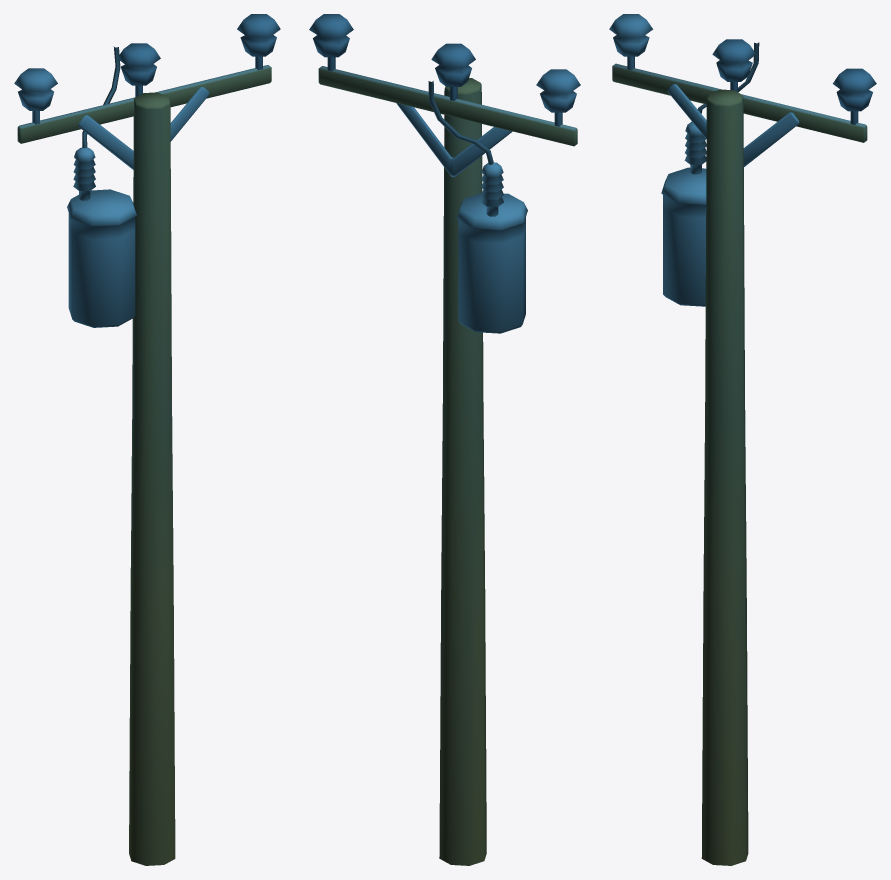
Rendered from TelegraphPole01Night.glb.
3 views of the same model, side by side, from view 1: azimuth 30°, elevation 25°; view 2: azimuth 150°, elevation 25°; view 3: azimuth 330°, elevation 25° (orthographic).
Parts seen in each view (by area): view 1: TelegraphPole01Night; view 2: TelegraphPole01Night; view 3: TelegraphPole01Night.
Boxes of the visible parts, bbox=[...] form: TelegraphPole01Night: bbox=[14, 14, 280, 865]; TelegraphPole01Night: bbox=[309, 14, 580, 865]; TelegraphPole01Night: bbox=[609, 14, 876, 865].
Bounding box in the file's own units: 2.29 × 6.8 × 0.7174.
